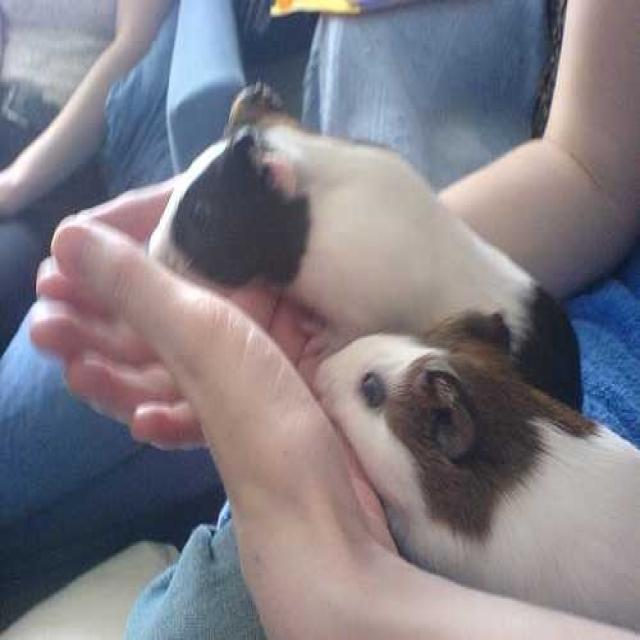guinea pig: (148, 86, 582, 417), (312, 331, 640, 632)
